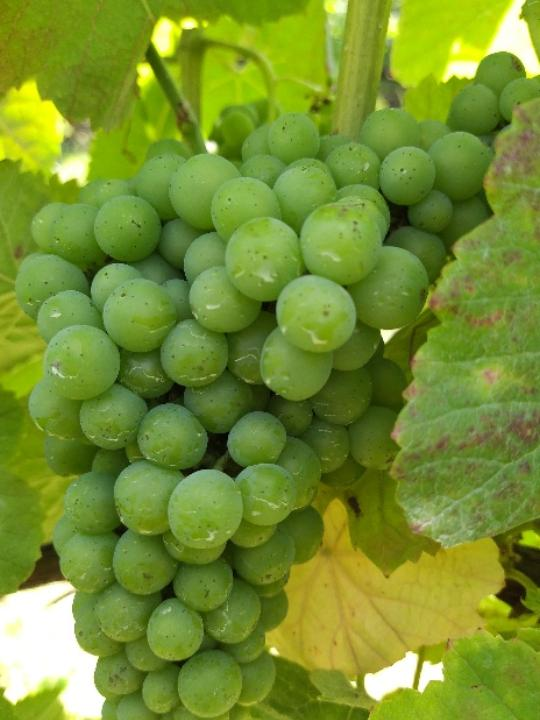grape: (12, 153, 426, 720)
